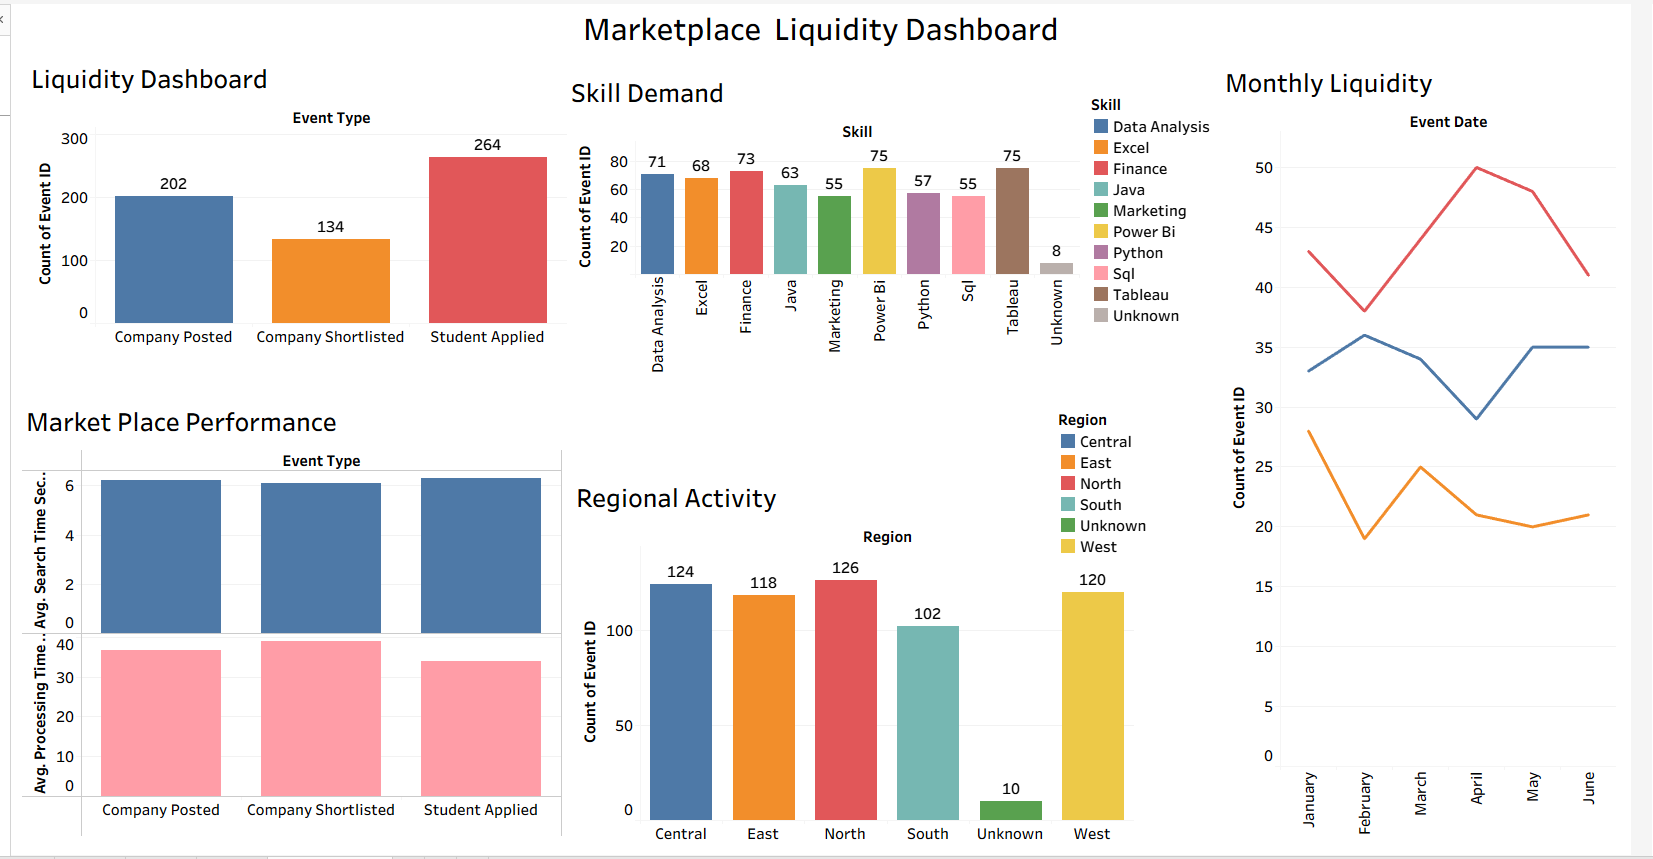

The page's visual inventory and layout, read from the dashboard file:
{"tool":"tableau","page":{"name":"Dashboard 1","canvas":[1620,860],"ordinal":0},"visuals":[{"type":"title","box":[8,8,1604,49]},{"type":"worksheet","title":"Sheet 1","mark":"Automatic","rows":["Event_ID"],"cols":["Event_Type"],"box":[16,62,540,306]},{"type":"worksheet","title":"Sheet 2","mark":"Automatic","rows":["Event_ID"],"cols":["Event_Date"],"box":[1210,66,395,785]},{"type":"worksheet","title":"Sheet 4","mark":"Automatic","rows":["Event_ID"],"cols":["Skill"],"box":[556,76,513,303]},{"type":"legend","title":"Sheet 4","param":"[federated.1o31niw0or1and12fvuop0ump98h].[none:Skill:nk]","box":[1080,99,140,232]},{"type":"worksheet","title":"Sheet 5","mark":"Automatic","rows":["Search_Time_Seconds","Processing_Time_Hours"],"cols":["Event_Type"],"box":[11,405,540,437]},{"type":"legend","title":"Sheet 3","param":"[federated.1o31niw0or1and12fvuop0ump98h].[none:Region:nk]","box":[1047,414,140,148]},{"type":"worksheet","title":"Sheet 3","mark":"Automatic","rows":["Event_ID"],"cols":["Region"],"box":[561,481,562,369]}]}

Visuals, with their boxes in screenshot pixels (x1, y1, x2, y2), scaled from the page's 1620x860 canvas onto the 1653x859 screenshot:
title: detection(8, 8, 1645, 57)
"Sheet 1" worksheet: detection(16, 62, 567, 368)
"Sheet 2" worksheet: detection(1235, 66, 1638, 850)
"Sheet 4" worksheet: detection(567, 76, 1091, 379)
"Sheet 4" legend: detection(1102, 99, 1245, 331)
"Sheet 5" worksheet: detection(11, 405, 562, 841)
"Sheet 3" legend: detection(1068, 414, 1211, 561)
"Sheet 3" worksheet: detection(572, 480, 1146, 849)
